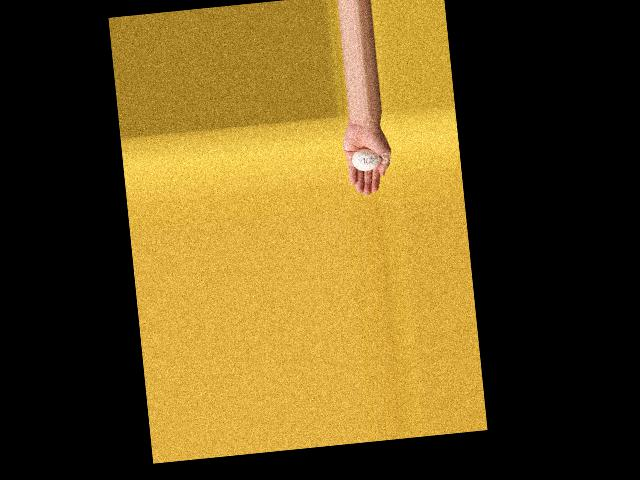egg: (350, 147, 381, 172)
